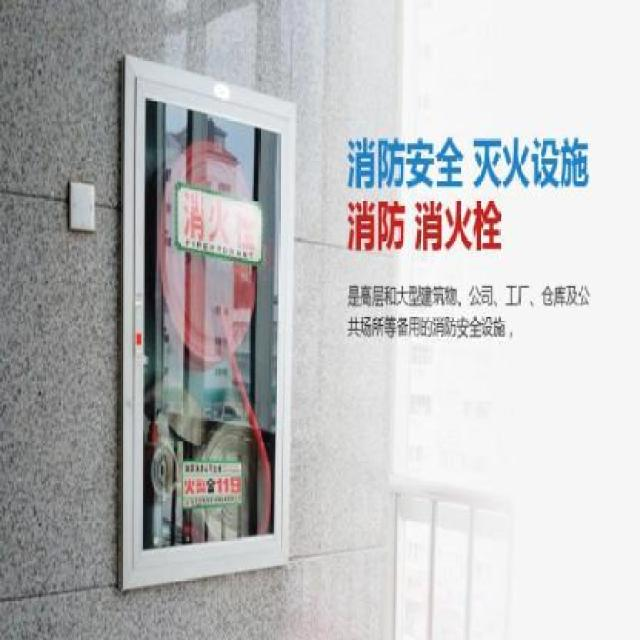firehydrant: (117, 46, 300, 599)
